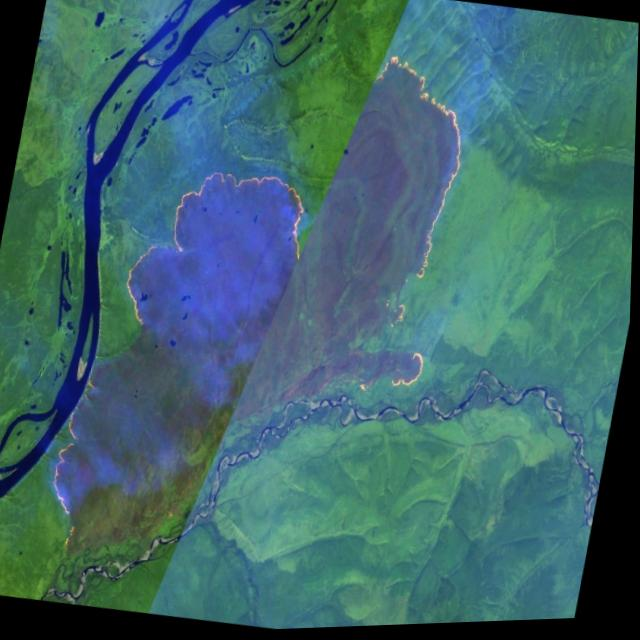fire: (31, 9, 492, 617)
